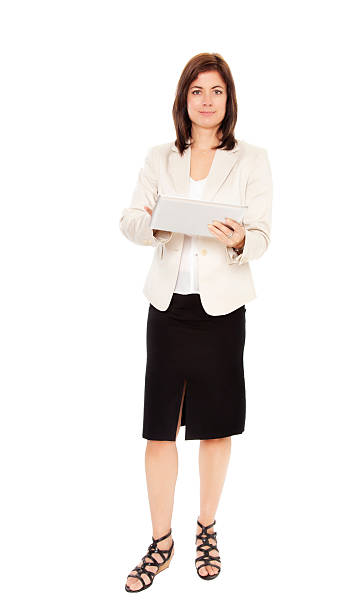F_tailored skirt: (134, 280, 258, 444)
